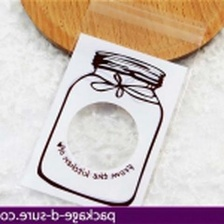snack: (11, 0, 213, 206)
